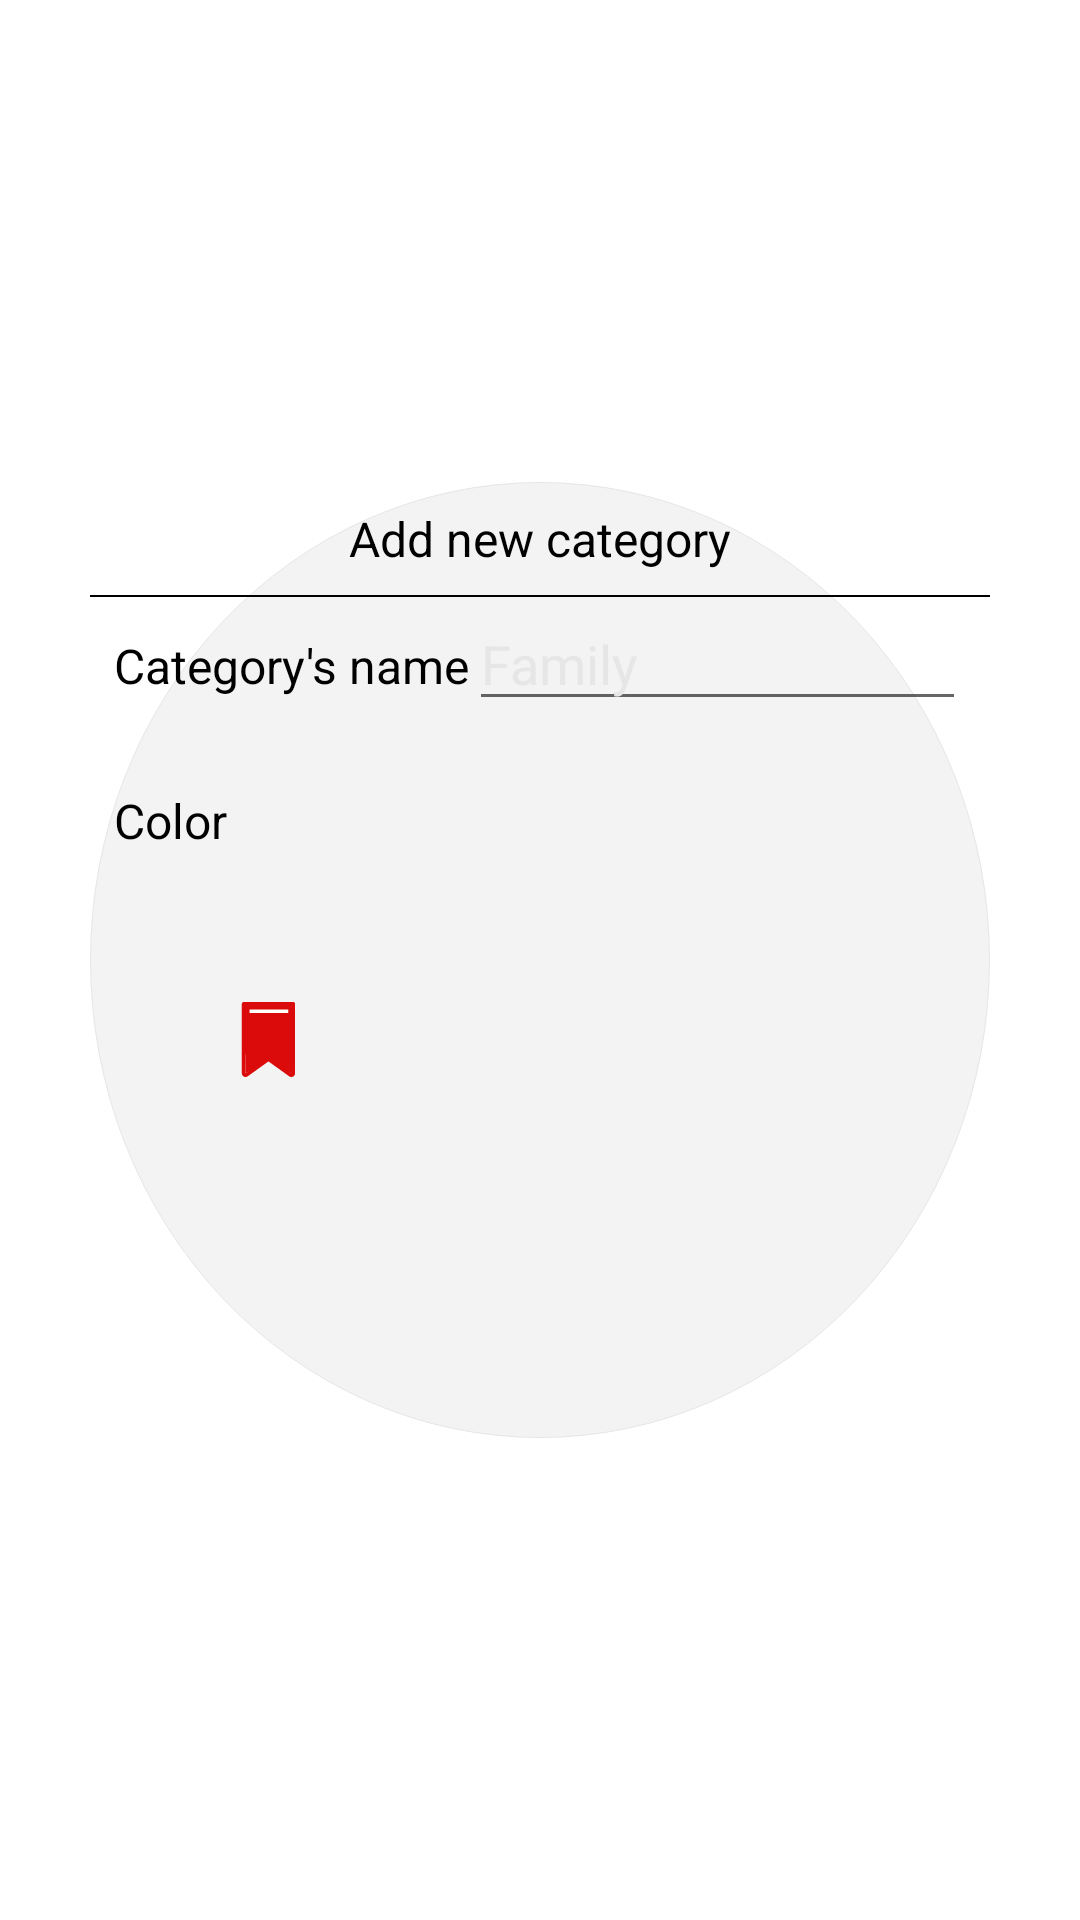

Where icons sit on this 1080*1920 app screen, as [x1,y1,x2,y2]:
bookmark: [241,1002,295,1077]
